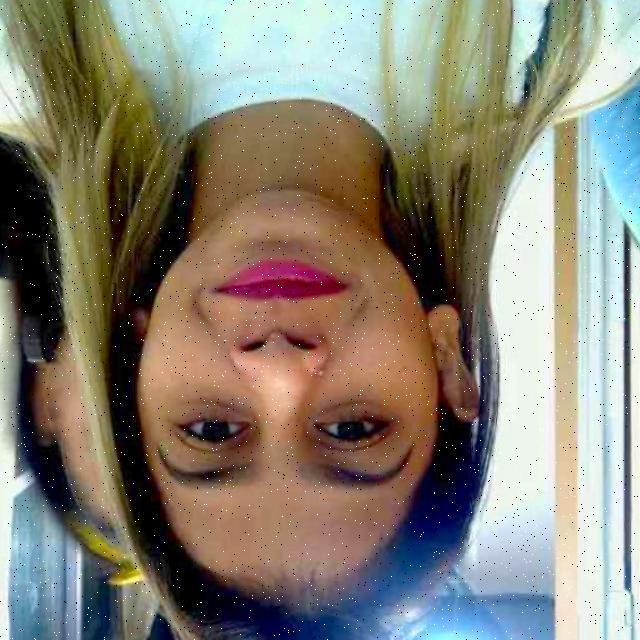puffy_eyes: (174, 394, 254, 420), (314, 401, 377, 423)
